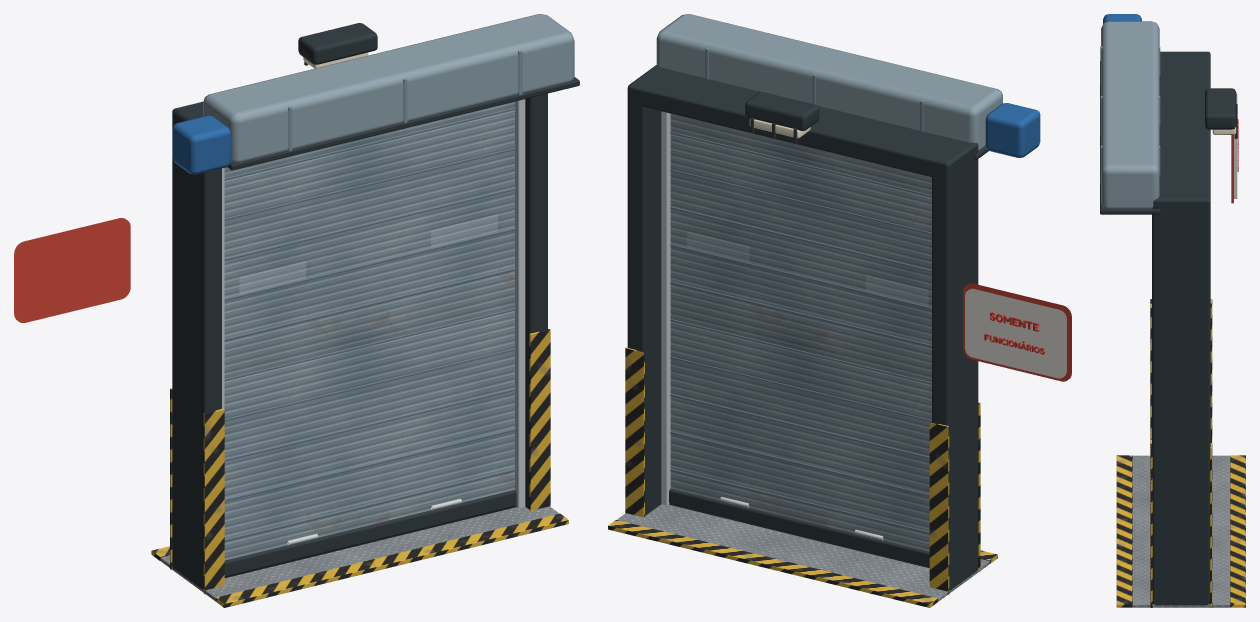
Rendered from staff-door.fbx.
3 views of the same model, side by side, from view 1: azimuth 30°, elevation 25°; view 2: azimuth 150°, elevation 25°; view 3: azimuth 270°, elevation 25° (orthographic). The views are drawn at different scales.
Visible parts, largest first — view 1: Anim Curtain, Body; view 2: Anim Curtain, Body; view 3: Body.
Part boxes in pixels (bbox=[...]): Anim Curtain: bbox=[224, 101, 516, 578]; Body: bbox=[14, 14, 579, 607]; Anim Curtain: bbox=[669, 113, 931, 568]; Body: bbox=[608, 14, 1071, 607]; Body: bbox=[1100, 14, 1245, 607].
Size of the model in its own units: 2.56 by 2.48 by 0.745.
